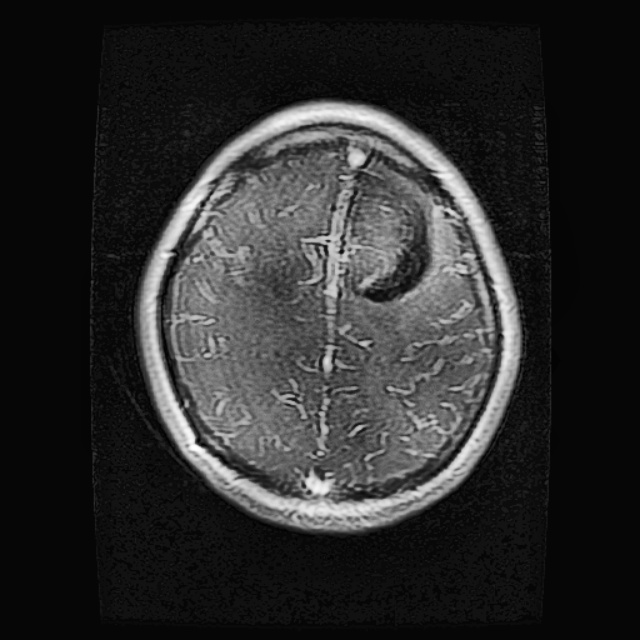Glioma: (342, 179, 433, 303)
